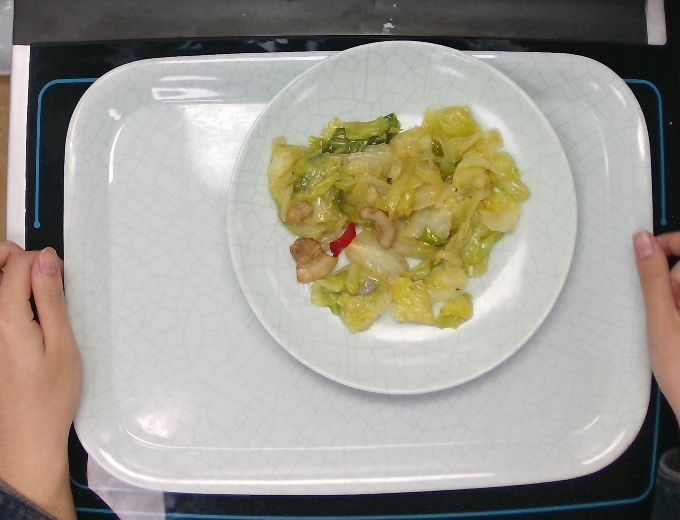JYsf-Da_Yuan_Pan: (224, 40, 575, 396)
